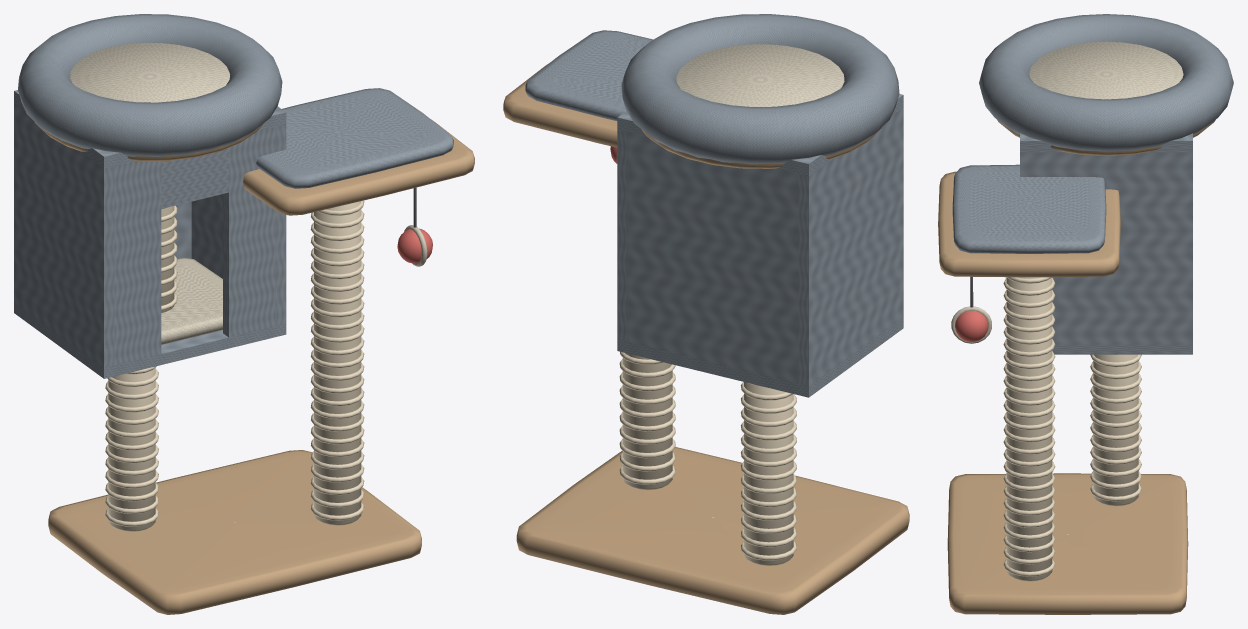
File: pets-and-companions-hd-cat-tree-375efa4f__28169.glb
3 renders of one model, left to right at view 1: azimuth 30°, elevation 25°; view 2: azimuth 150°, elevation 25°; view 3: azimuth 270°, elevation 25°, orthographic. The views are drawn at different scales.
Visible parts, largest first — view 1: cat-tree, dangler/accent; view 2: cat-tree; view 3: cat-tree, dangler/accent, dangler/cream.
Part boxes in pixels (x1,y1,x2,y2): cat-tree: [14, 14, 474, 614]; dangler/accent: [397, 228, 432, 263]; cat-tree: [503, 14, 909, 614]; cat-tree: [938, 14, 1233, 614]; dangler/accent: [955, 310, 988, 342]; dangler/cream: [951, 306, 991, 343].
Bounding box in the file's own units: 0.835 × 1.07 × 0.615.
6 materials, 2 textured.
